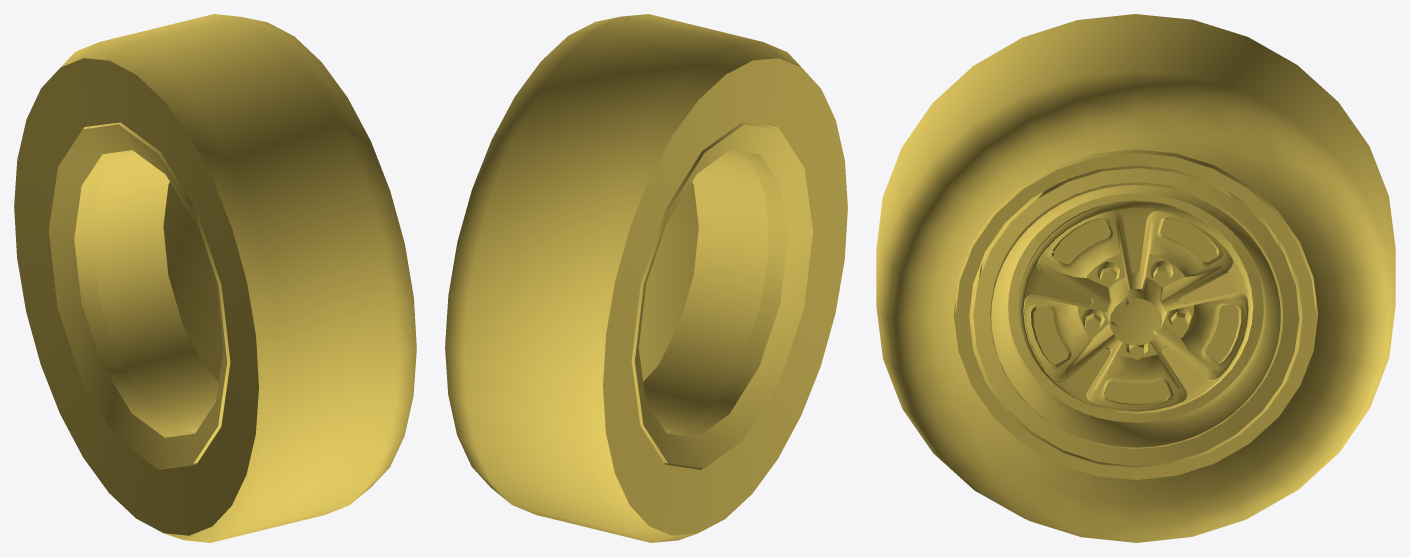
The model's file is Llanta_DI.obj.
The picture shows the model from 3 angles, left to right: view 1: azimuth 30°, elevation 25°; view 2: azimuth 150°, elevation 25°; view 3: azimuth 270°, elevation 25°; orthographic projection.
Parts seen in each view (by area): view 1: wheel01_pivot; view 2: wheel01_pivot; view 3: wheel01_pivot.
Boxes of the visible parts, bbox=[...] form: wheel01_pivot: bbox=[14, 14, 416, 542]; wheel01_pivot: bbox=[445, 14, 847, 542]; wheel01_pivot: bbox=[876, 14, 1395, 542].
Bounding box in the file's own units: 2.31 × 6.14 × 6.14.
